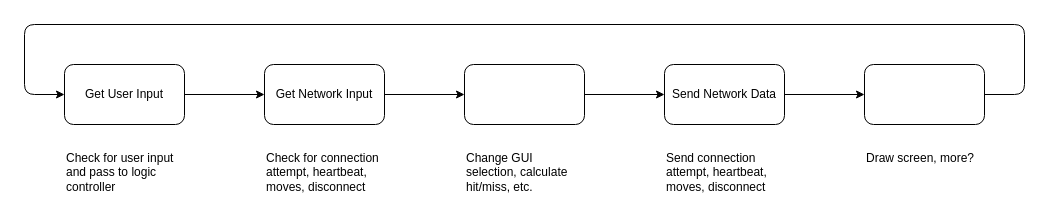
Some shapes in this 1050 by 212 pixel diagram are drawn without their labels. Each missing label, with the centre of its shape:
Game Logic: point 524,94
Update Display: point 924,94
